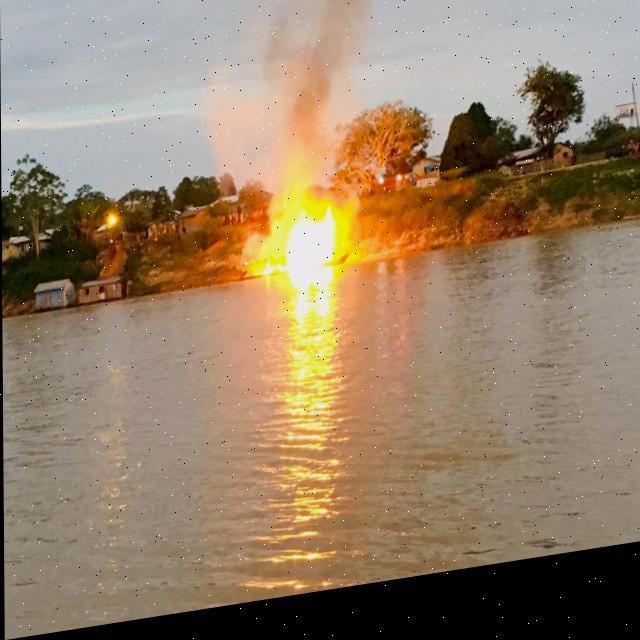Fire: (254, 208, 343, 286)
